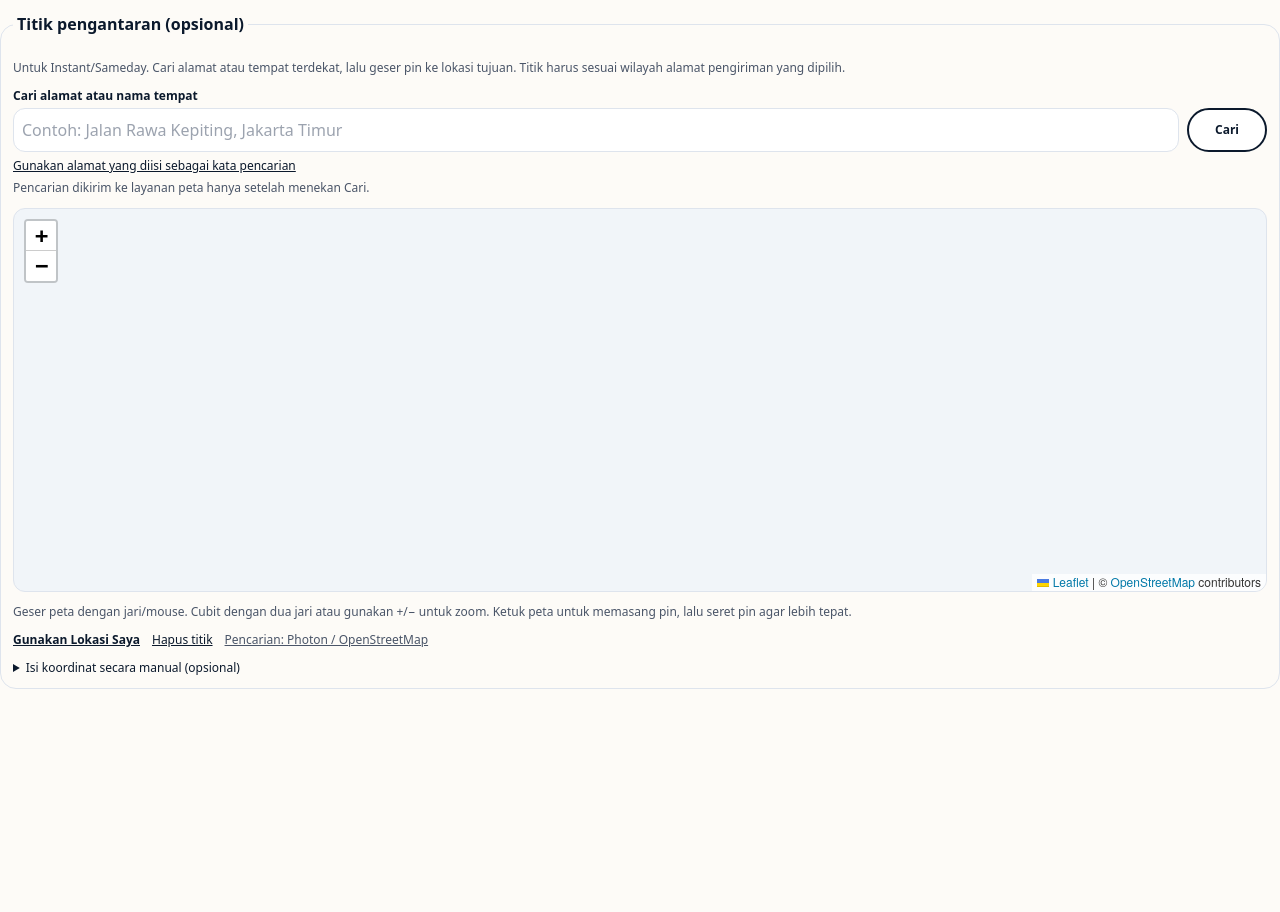
Test: failed search retains manual map selection and clear-point controls
The image size is (1280, 912).
Later steps or results of the test are not shown.
Click the button "Cari": [1227, 130] box [1187, 108, 1267, 152]
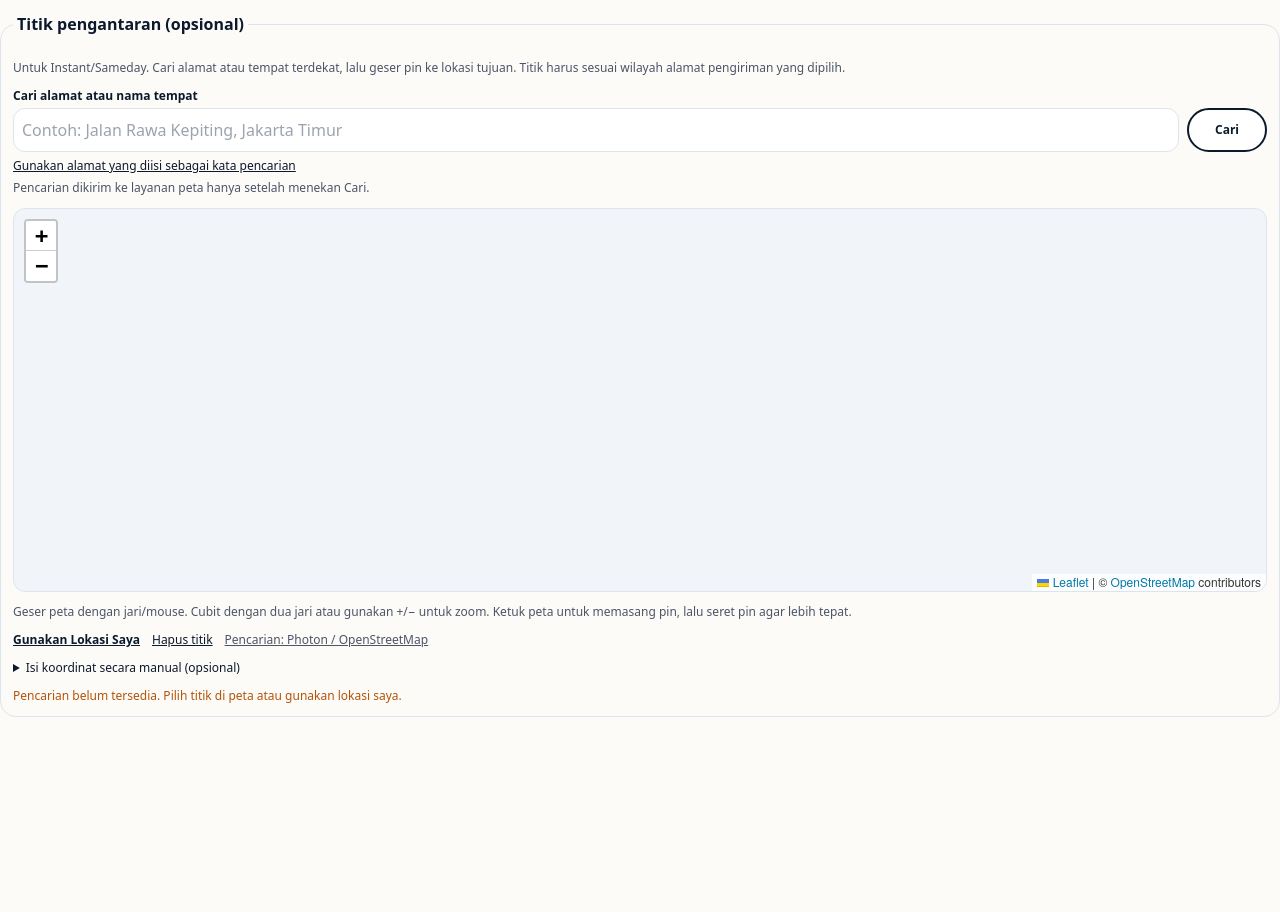
Now the text "Pencarian belum tersedia" is shown, box [13, 687, 402, 704]
